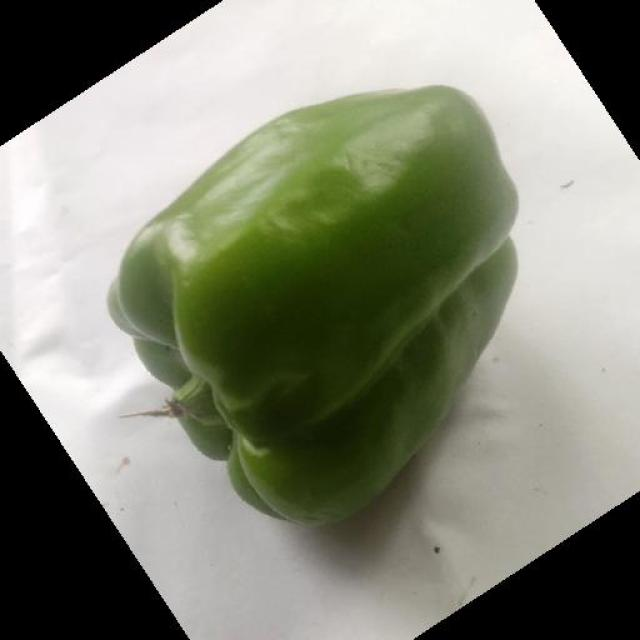Fresh_Capsicum: (124, 109, 514, 475)
